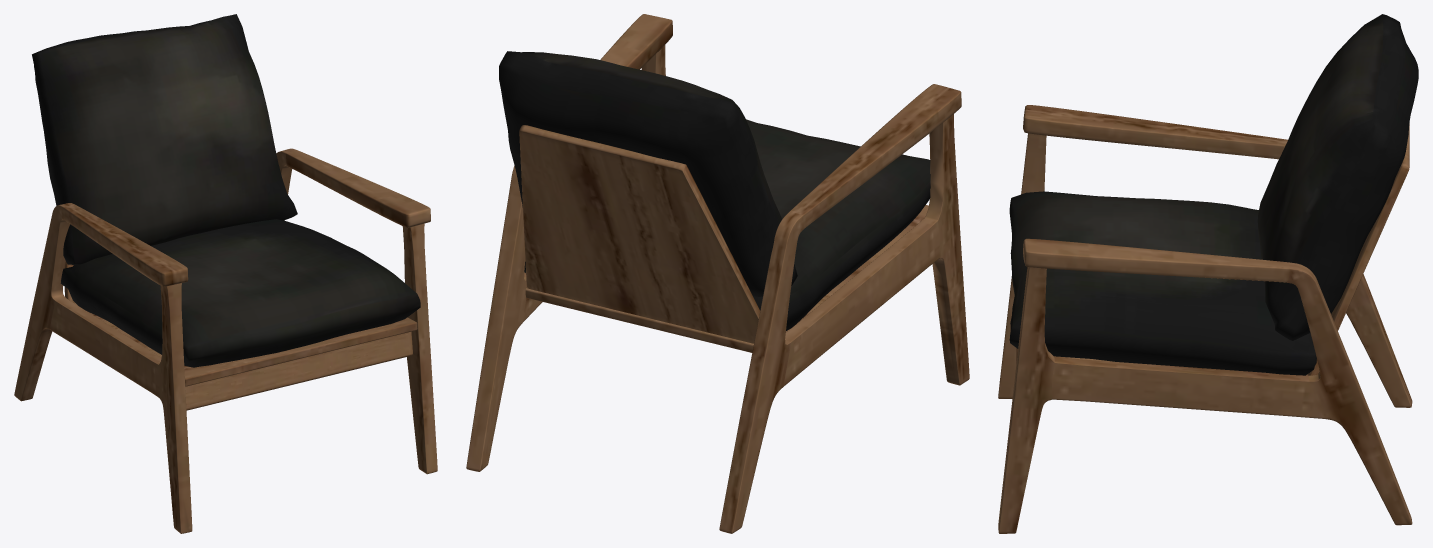
The model's file is office-armchair-leather.glb.
3 views of the same model, side by side, from view 1: azimuth 30°, elevation 25°; view 2: azimuth 150°, elevation 25°; view 3: azimuth 270°, elevation 25° (orthographic). The views are drawn at different scales.
Visible parts, largest first — view 1: modern_arm_chair_01; view 2: modern_arm_chair_01; view 3: modern_arm_chair_01.
Part boxes in pixels (x1,y1,x2,y2): modern_arm_chair_01: [14, 14, 437, 533]; modern_arm_chair_01: [466, 14, 969, 533]; modern_arm_chair_01: [998, 14, 1418, 533].
Size of the model in its own units: 0.8203 by 1.02 by 0.9865.
Materials: 2 (2 with a texture image).
